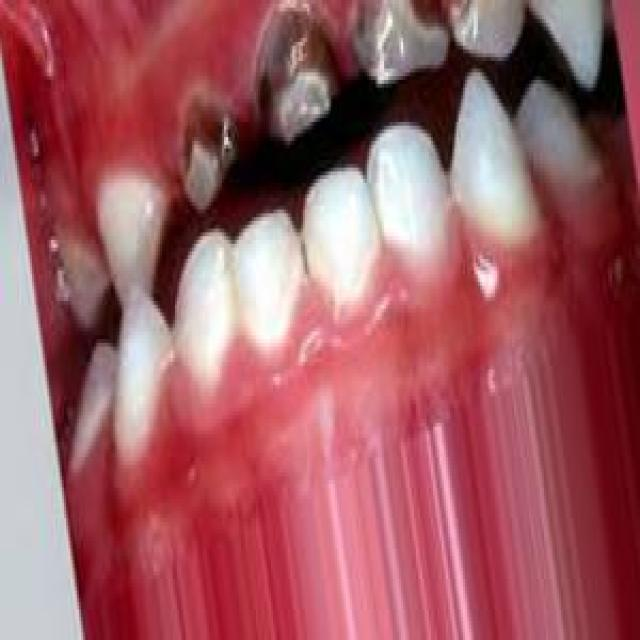caries: (251, 0, 333, 149), (350, 0, 449, 94), (174, 85, 242, 214)
